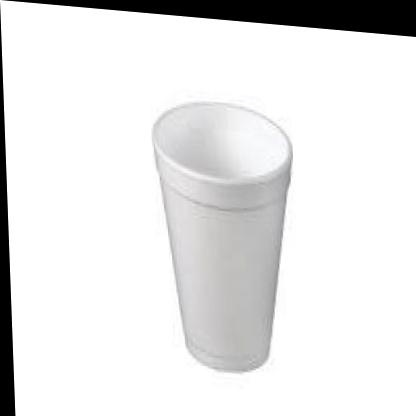trash: (153, 102, 291, 369)
